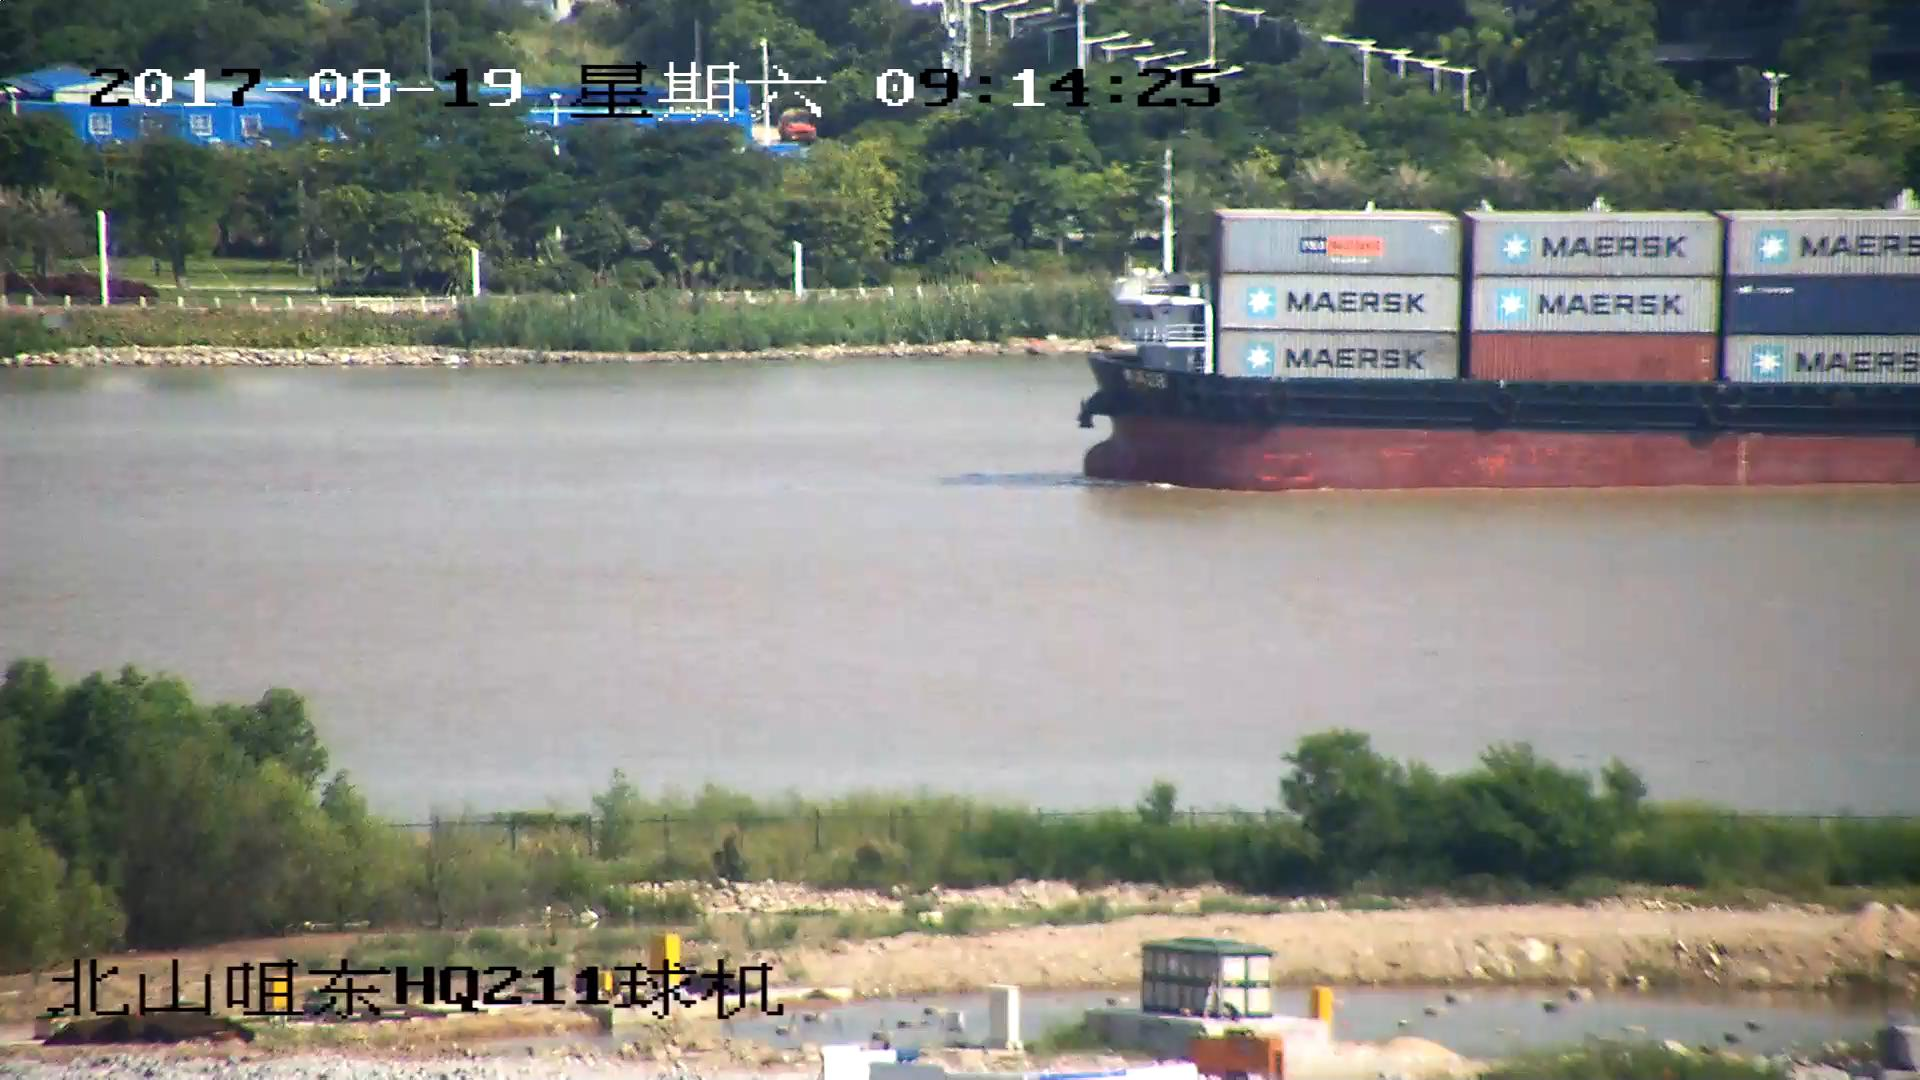container ship: (1067, 192, 1920, 489)
